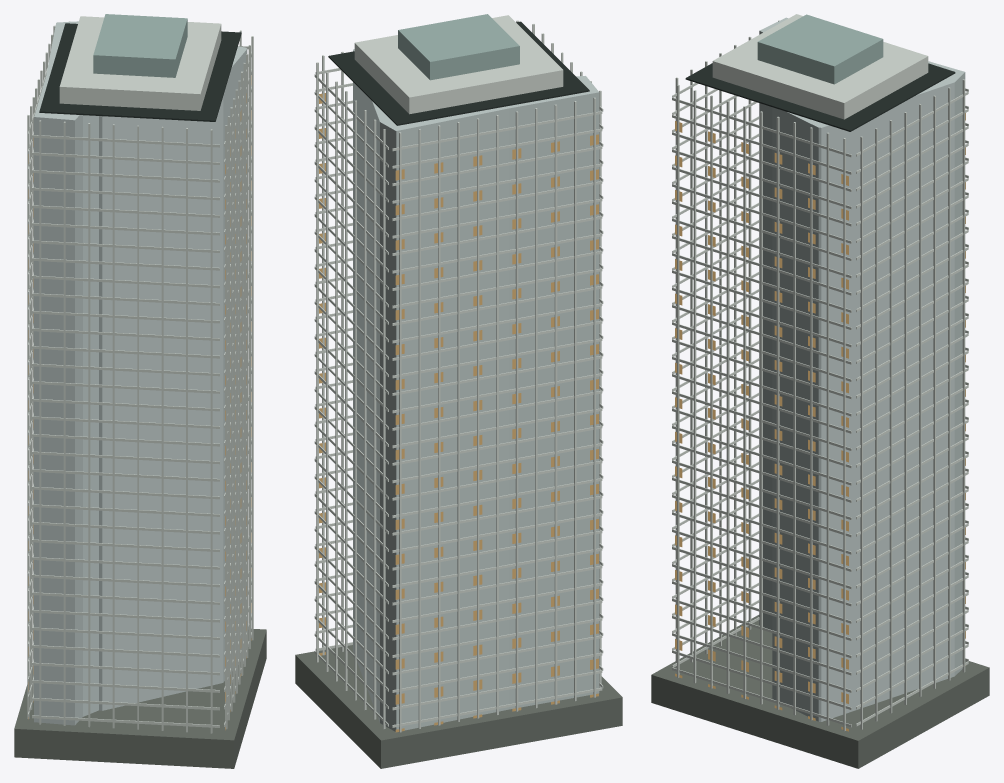
Rendered from rongchao-hq.glb.
3 views of the same model, side by side, from view 1: azimuth 30°, elevation 25°; view 2: azimuth 150°, elevation 25°; view 3: azimuth 270°, elevation 25° (orthographic).
Visible parts, largest first — view 1: envelope, fins, floor_bands, podium, crown_step, crown_screen, roof_deck, night_windows; view 2: envelope, fins, floor_bands, podium, night_windows, crown_step, crown_screen, roof_deck; view 3: envelope, fins, floor_bands, podium, crown_step, night_windows, crown_screen, roof_deck.
Boxes of the visible parts, box(x1,y1,x2,y2) form: envelope: box(34, 21, 247, 725); fins: box(27, 21, 253, 733); floor_bands: box(27, 46, 251, 727); podium: box(14, 629, 266, 768); crown_step: box(59, 16, 221, 110); crown_screen: box(93, 14, 187, 77); roof_deck: box(39, 23, 241, 121); night_windows: box(28, 75, 251, 730); envelope: box(353, 49, 599, 731); fins: box(316, 20, 601, 732); floor_bands: box(314, 68, 603, 727); podium: box(295, 645, 622, 768); night_windows: box(319, 93, 598, 732); crown_step: box(354, 15, 563, 114); crown_screen: box(398, 14, 519, 80); roof_deck: box(328, 21, 589, 125); envelope: box(759, 17, 965, 721); fins: box(675, 20, 965, 731); floor_bands: box(672, 82, 968, 727); podium: box(651, 615, 989, 768); crown_step: box(712, 14, 928, 119); night_windows: box(675, 113, 965, 731); crown_screen: box(757, 14, 883, 84); roof_deck: box(685, 63, 955, 131).
Bounding box in the file's own units: 110 × 243 × 113.
